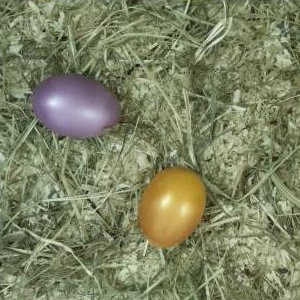egg: (32, 74, 123, 139), (138, 167, 206, 246)
